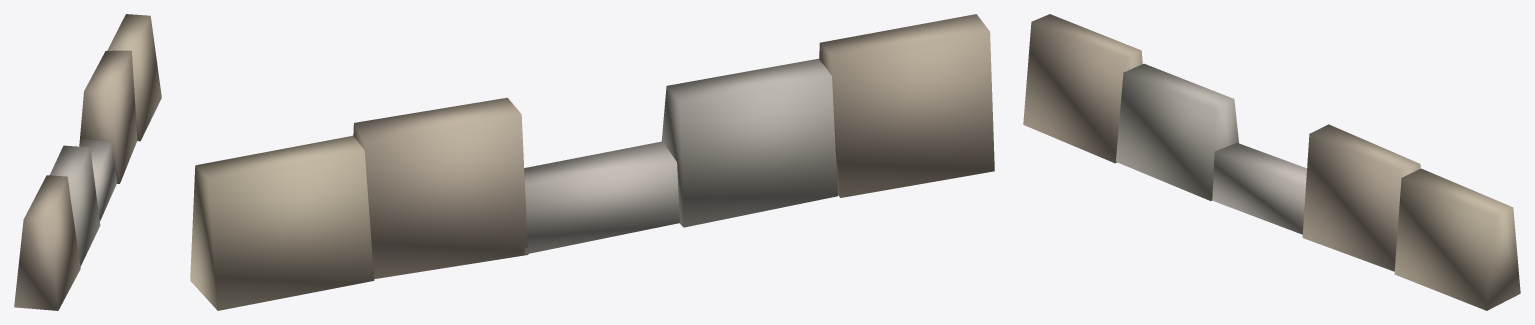
Rendered from farm_4_-3_far.glb.
3 views of the same model, side by side, from view 1: azimuth 30°, elevation 25°; view 2: azimuth 150°, elevation 25°; view 3: azimuth 270°, elevation 25° (orthographic). The views are drawn at different scales.
Visible parts, largest first — view 1: geometry_0; view 2: geometry_0; view 3: geometry_0.
Boxes of the visible parts, x1,y1,x2,y2 form: geometry_0: [14, 14, 161, 310]; geometry_0: [190, 14, 994, 310]; geometry_0: [1023, 14, 1520, 310].
Bounding box in the file's own units: 5.74 × 1.7 × 6.51.
